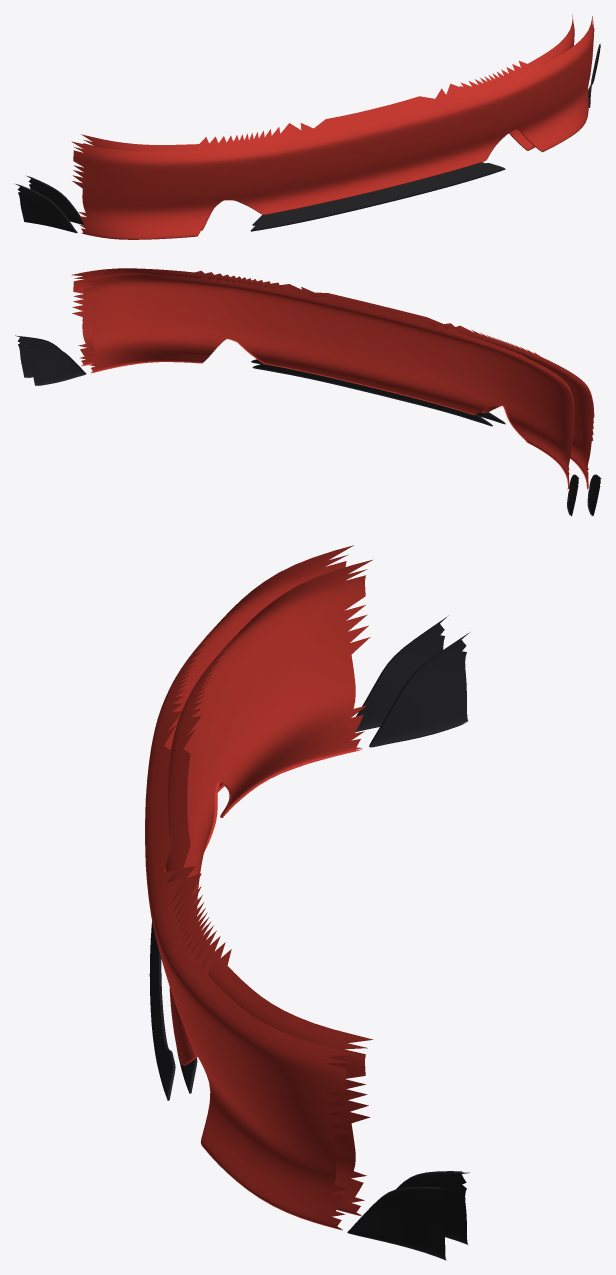
File: vela_front_track.glb
The picture shows the model from 3 angles, top to bottom: view 1: azimuth 30°, elevation 25°; view 2: azimuth 150°, elevation 25°; view 3: azimuth 270°, elevation 25°; orthographic projection. The views are drawn at different scales.
Parts seen in each view (by area): view 1: bumper_front.004, bumper_front_lower.003, bumper_front.003, bumper_front_lower.002; view 2: bumper_front.003, bumper_front.004, bumper_front_lower.002, bumper_front_lower.003; view 3: bumper_front.003, bumper_front.004, bumper_front_lower.003, bumper_front_lower.002.
Boxes of the visible parts, x1=… form: bumper_front.004: x1=71, y1=16, x2=594, y2=239; bumper_front_lower.003: x1=15, y1=44, x2=600, y2=233; bumper_front.003: x1=81, y1=14, x2=574, y2=230; bumper_front_lower.002: x1=26, y1=162, x2=484, y2=225; bumper_front.003: x1=81, y1=275, x2=574, y2=489; bumper_front.004: x1=71, y1=268, x2=594, y2=489; bumper_front_lower.002: x1=26, y1=343, x2=579, y2=516; bumper_front_lower.003: x1=15, y1=335, x2=601, y2=515; bumper_front.003: x1=165, y1=560, x2=372, y2=1216; bumper_front.004: x1=145, y1=545, x2=354, y2=1230; bumper_front_lower.003: x1=149, y1=615, x2=448, y2=1260; bumper_front_lower.002: x1=176, y1=632, x2=469, y2=1244.
Bounding box in the file's own units: 1.96 × 0.3022 × 0.4714.
